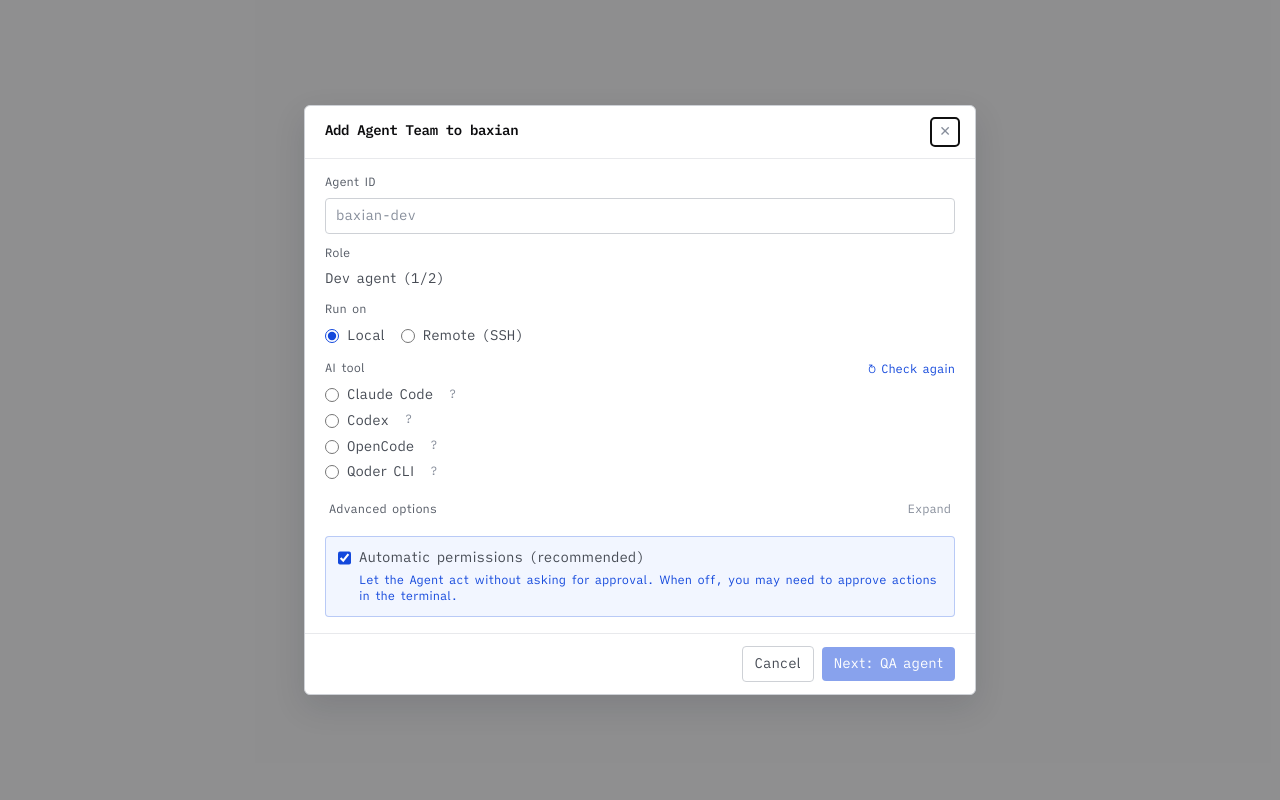
Test case: guides the user to manage hosts when no hosts are configured
Click the radio button labelled "Remote (SSH)" at (408, 336), box [401,329,415,343]
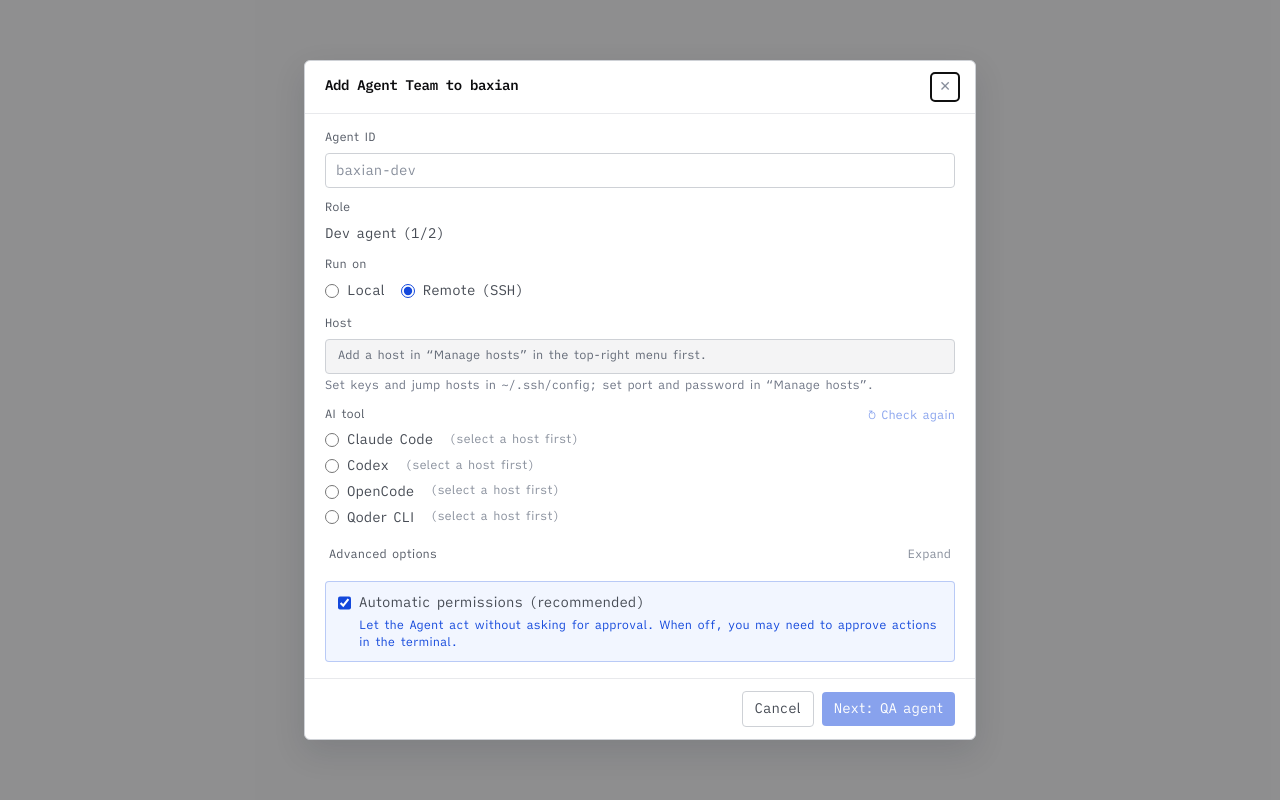
expect the text "Add a host in “Manage hosts” in the top-right menu first." is shown: met, box [325,339,955,374]
